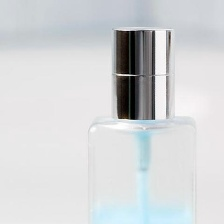bottle: (77, 20, 208, 223)
